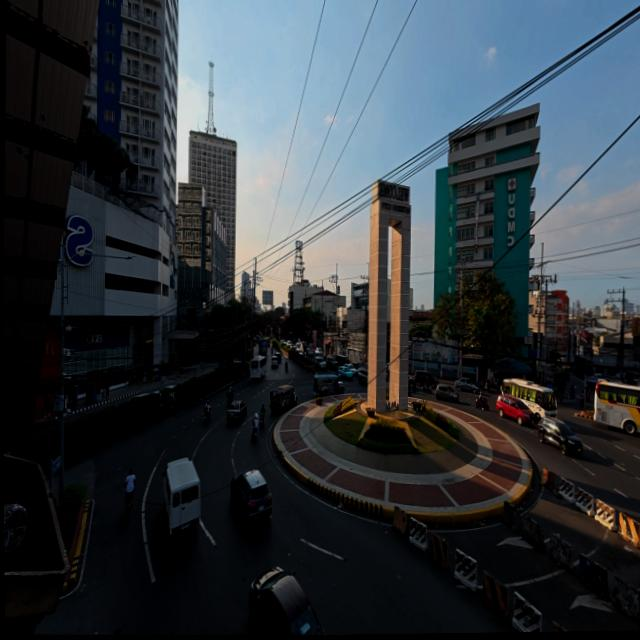Jeepneys: (269, 385, 296, 412), (313, 374, 343, 396)
bus: (594, 380, 639, 435), (501, 378, 556, 419), (249, 355, 266, 379), (259, 339, 268, 354)
car: (247, 567, 324, 635), (230, 470, 270, 527), (537, 418, 581, 455), (495, 396, 533, 425), (226, 400, 246, 423), (32, 417, 58, 433), (434, 385, 458, 402), (413, 371, 437, 388), (454, 378, 478, 393), (161, 385, 174, 406), (337, 364, 354, 380), (128, 392, 150, 401), (314, 355, 326, 370), (326, 356, 338, 371), (357, 369, 367, 385), (347, 363, 359, 376), (349, 362, 362, 370), (271, 355, 278, 368), (314, 347, 322, 356), (276, 350, 280, 363)
motorcycle: (475, 395, 488, 410), (486, 380, 499, 393), (420, 383, 432, 392), (203, 407, 210, 422), (250, 424, 256, 440), (478, 380, 486, 390), (226, 394, 232, 407), (569, 388, 574, 400), (579, 393, 583, 407), (585, 387, 589, 400), (259, 414, 263, 426), (285, 362, 287, 371)
vans: (163, 458, 199, 535), (335, 356, 349, 366)
